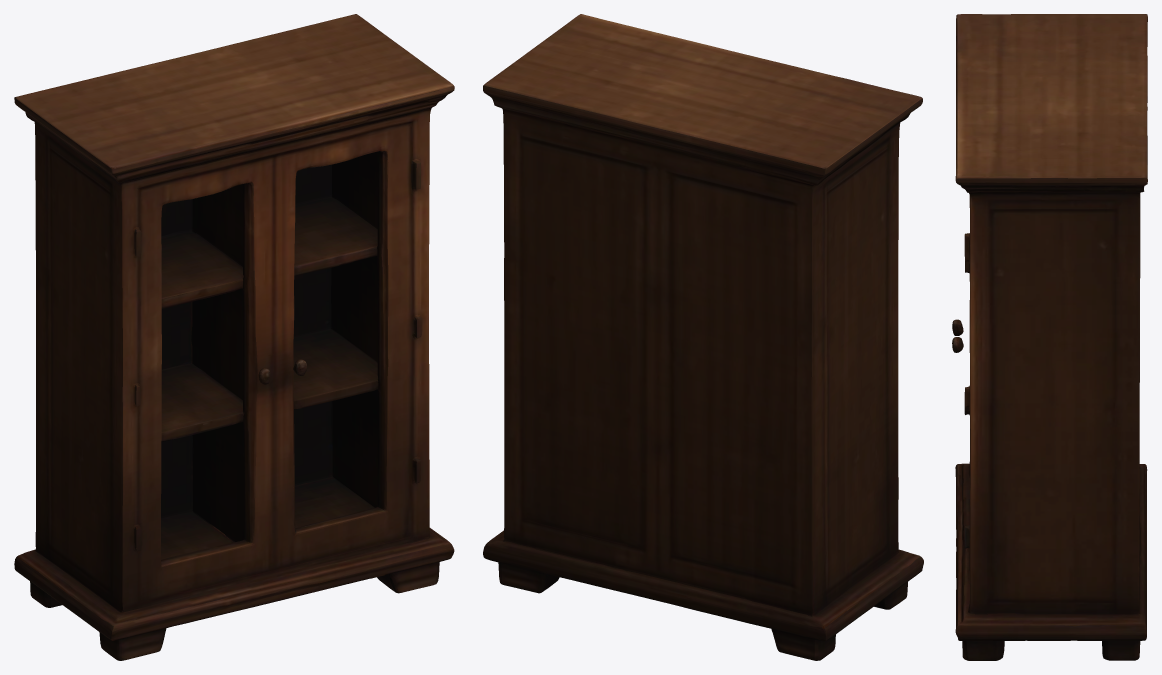
File: cabinet.glb
3 renders of one model, left to right at view 1: azimuth 30°, elevation 25°; view 2: azimuth 150°, elevation 25°; view 3: azimuth 270°, elevation 25°, orthographic. The views are drawn at different scales.
Visible parts, largest first — view 1: geometry_0; view 2: geometry_0; view 3: geometry_0.
Part boxes in pixels (x1=…): geometry_0: x1=14, y1=14, x2=454, y2=660; geometry_0: x1=483, y1=14, x2=923, y2=660; geometry_0: x1=952, y1=14, x2=1147, y2=660.
Size of the model in its own units: 0.7213 by 1 by 0.3633.
1 material, 1 textured.
